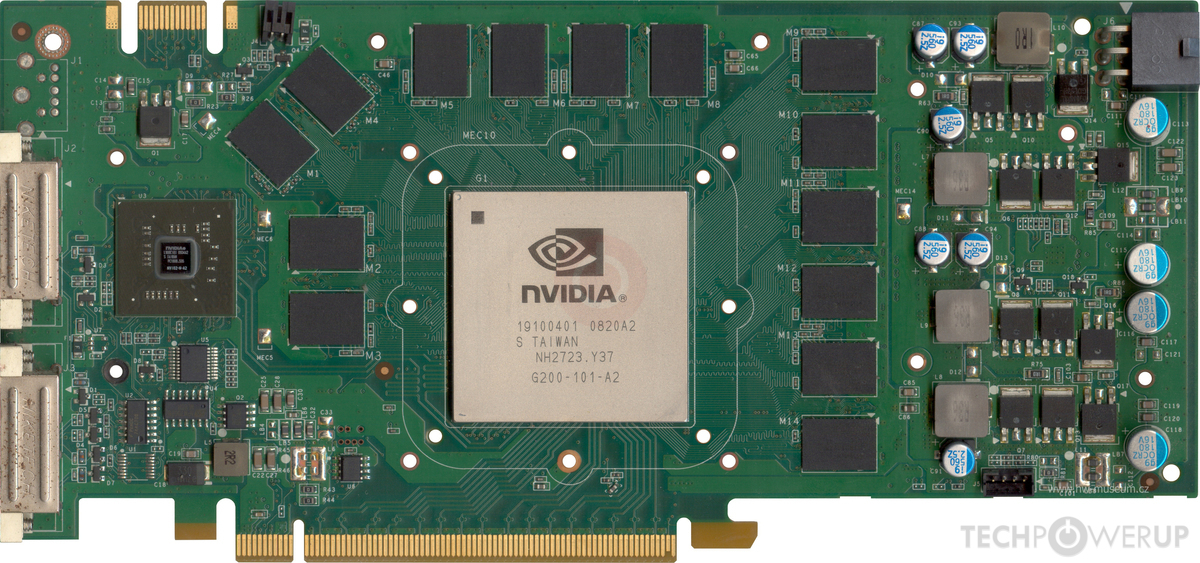Induktor: (934, 381, 991, 438), (995, 10, 1051, 67), (933, 150, 990, 205), (934, 287, 990, 342), (213, 440, 249, 475)
